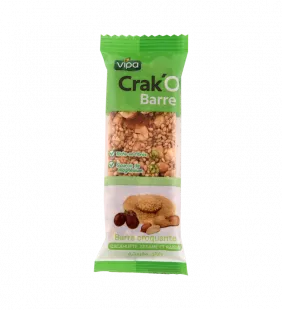CRAKO: (84, 28, 196, 284)
